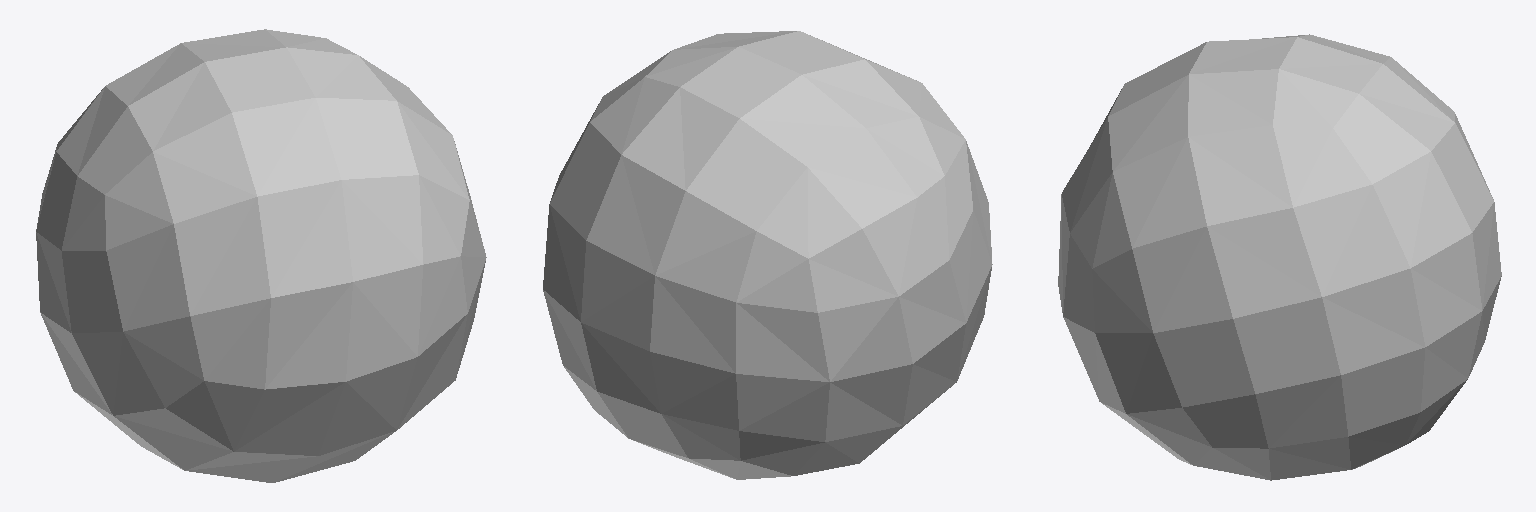
Rendered from Bubble_Big_v2.obj.
The picture shows the model from 3 angles: view 1: azimuth 30°, elevation 25°; view 2: azimuth 150°, elevation 25°; view 3: azimuth 270°, elevation 25°; orthographic projection.
Size of the model in its own units: 0.4454 by 0.4486 by 0.4473.